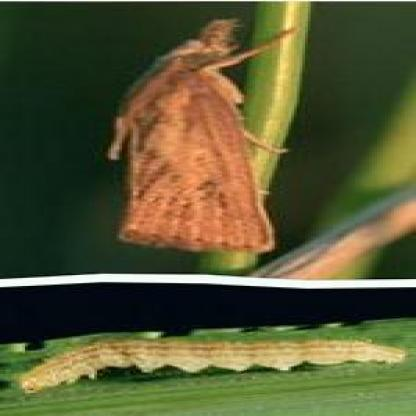stem-borer: (106, 15, 302, 255)
